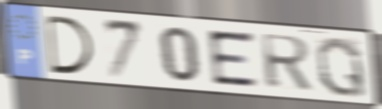0: (156, 25, 202, 84)
7: (103, 16, 144, 82)
D: (43, 13, 97, 77)
E: (204, 28, 262, 88)
Q: (314, 35, 369, 100)
R: (258, 32, 315, 92)
